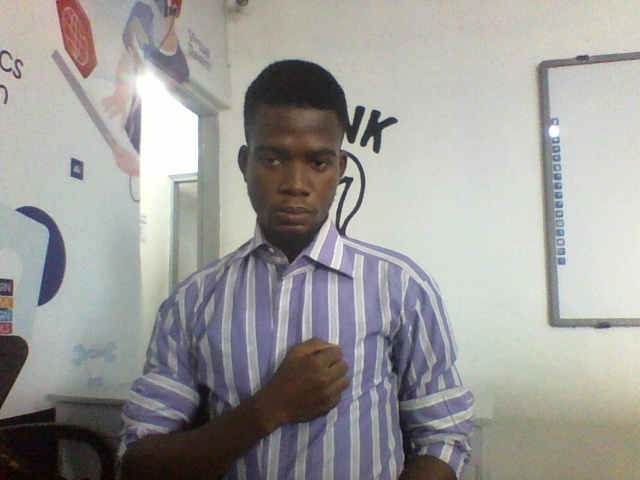sorry: (170, 339, 346, 465)
